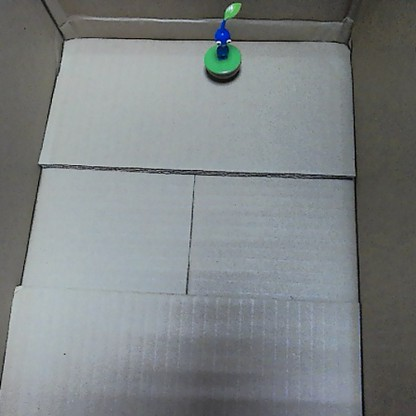leafairy: (200, 1, 244, 82)
